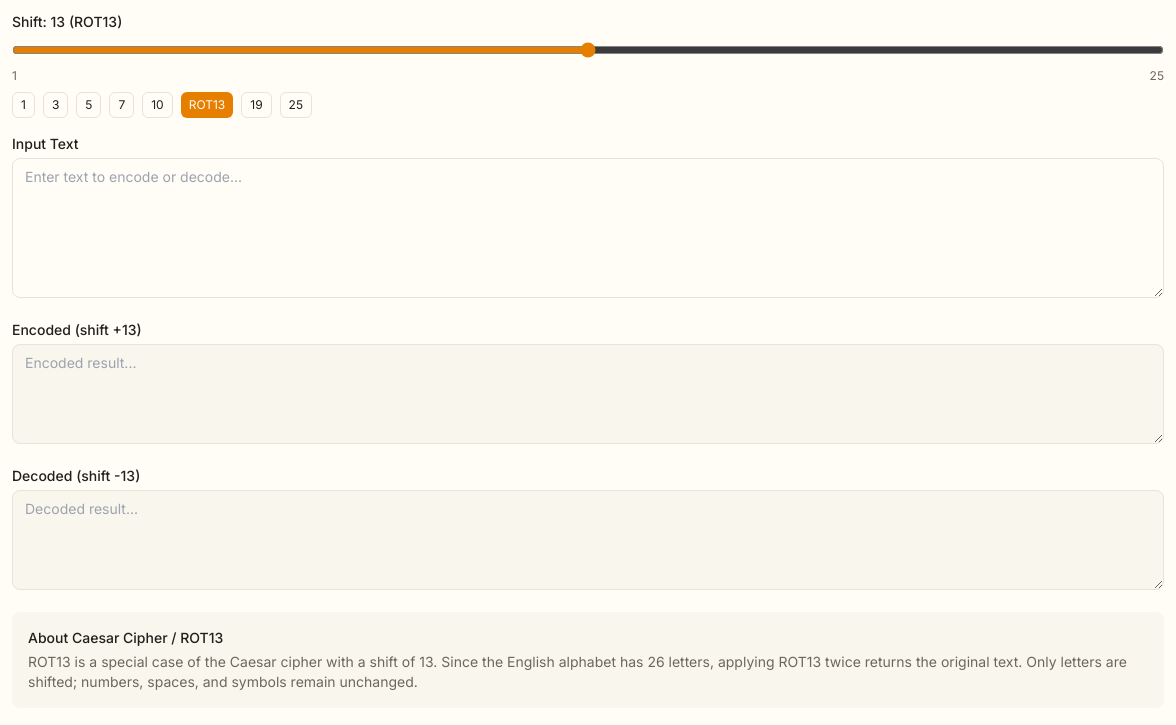
Rot13Encoder › encodes text with ROT13 (shift 13)
In the text box named "Text input": (588,228) [12,158,1164,298], type "Hello"
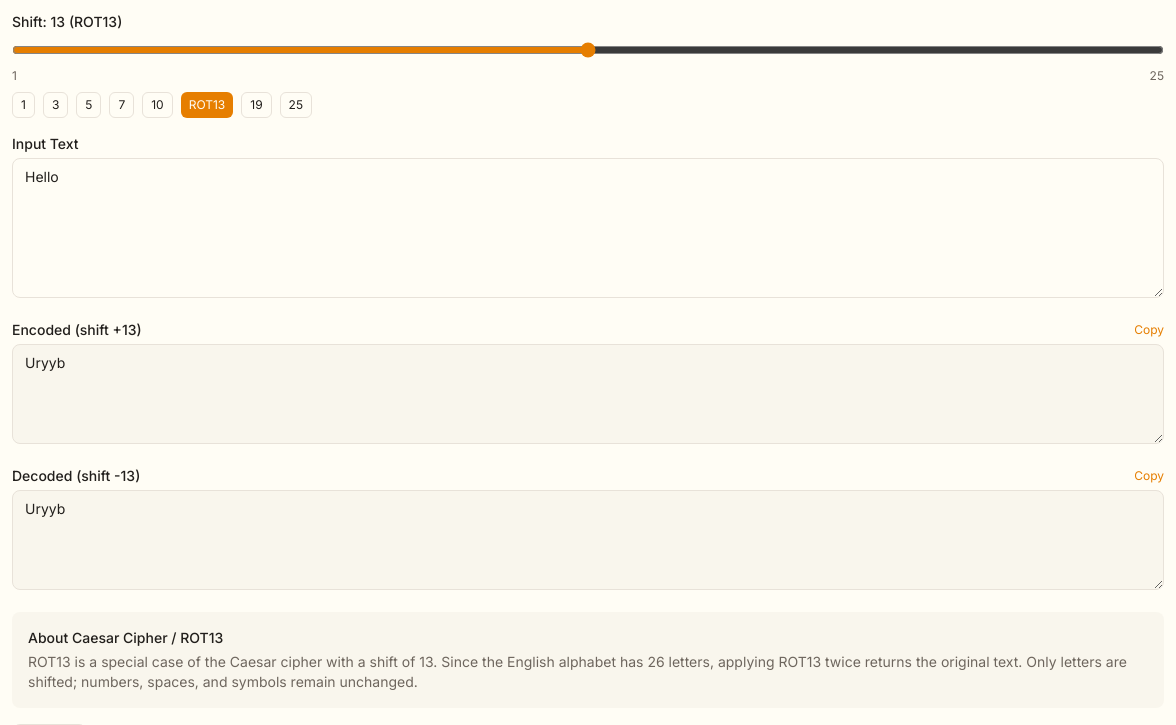
Result: the text box named "Encoded output" holds "Uryyb" at [12,344,1164,444]
